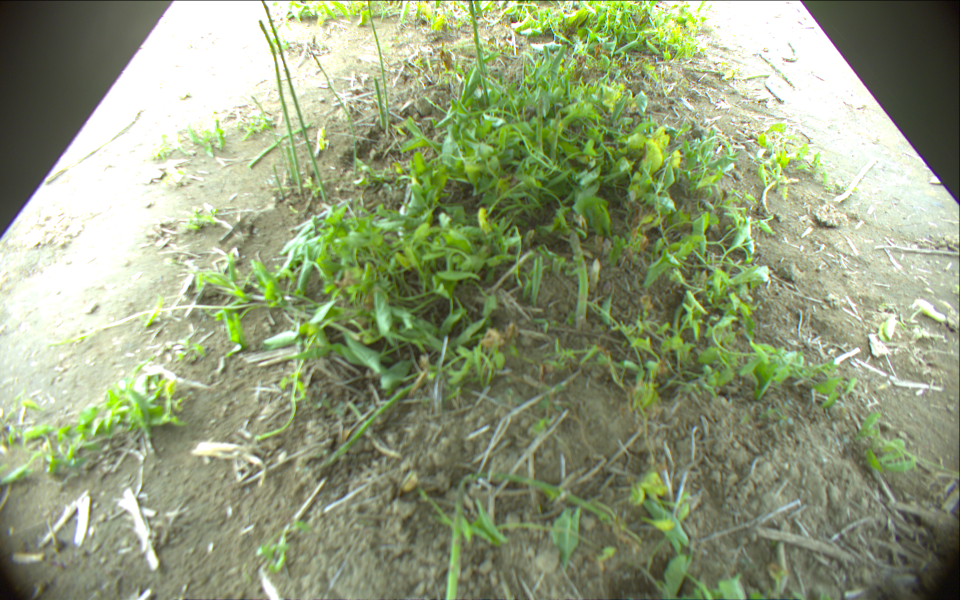aspa: (258, 1, 327, 204), (255, 16, 303, 195), (305, 41, 358, 178), (365, 1, 390, 129), (249, 96, 289, 172), (247, 122, 311, 169), (466, 1, 491, 105), (443, 489, 466, 600), (569, 227, 588, 324), (373, 77, 386, 127), (270, 169, 286, 199), (286, 146, 294, 182)
